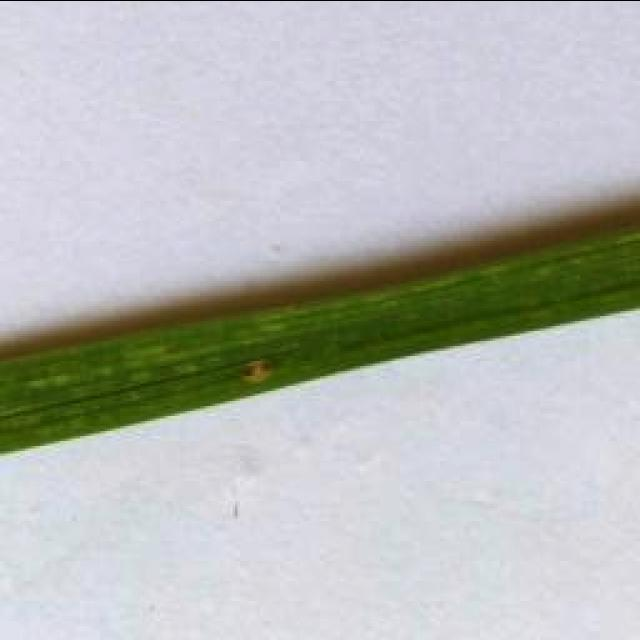Unhealthy: (240, 358, 277, 382)
